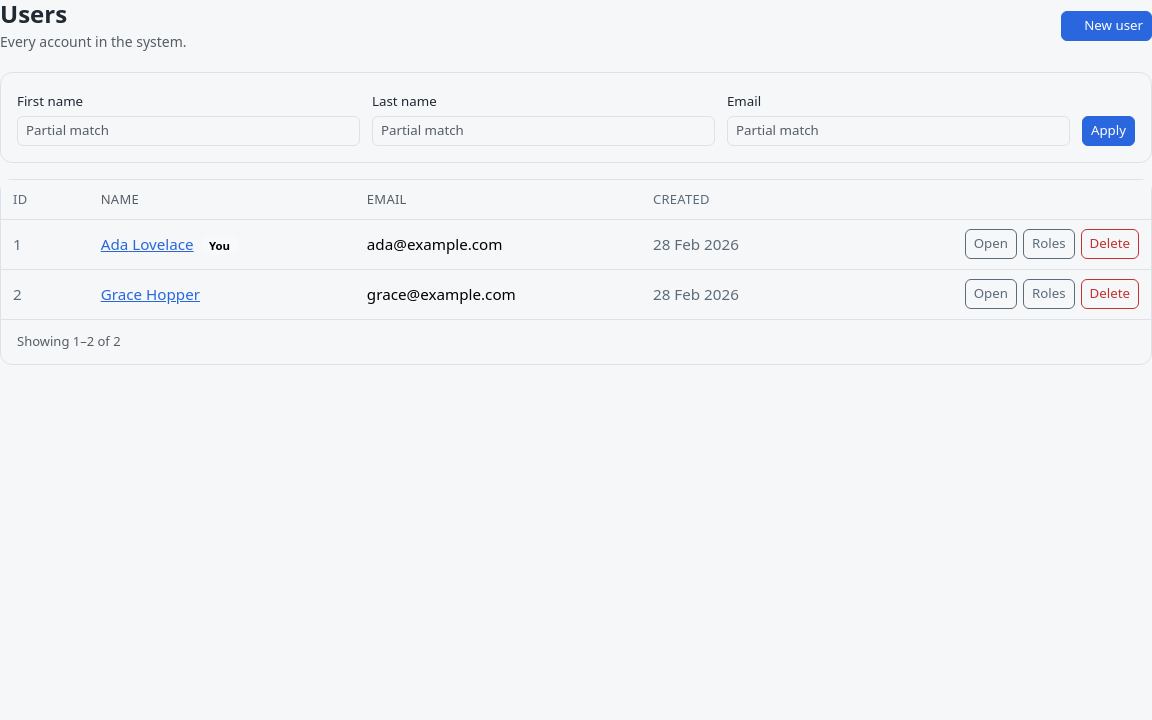
Test: When the API refuses an account change › keeps the account when the confirmation is dismissed
Click the button "Delete" in the row of "Hopper" at x=1110, y=294, box [1081,280,1139,309]
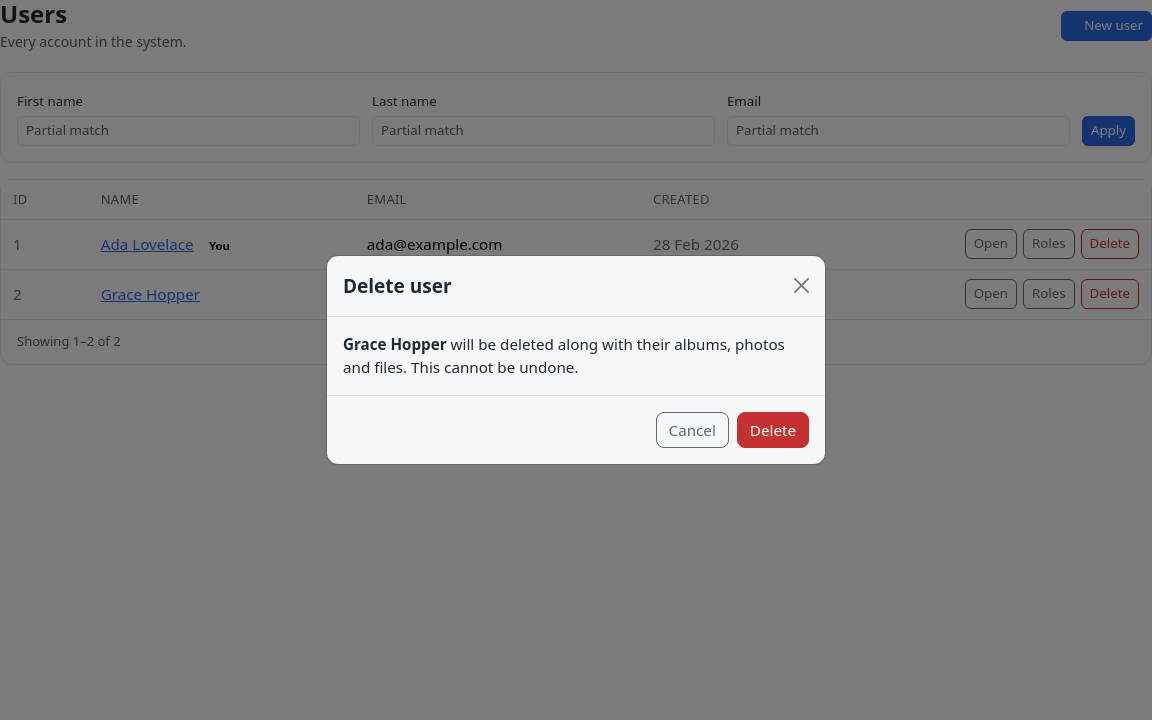
Click the button "Cancel" at x=692, y=430, box [656,412,729,448]
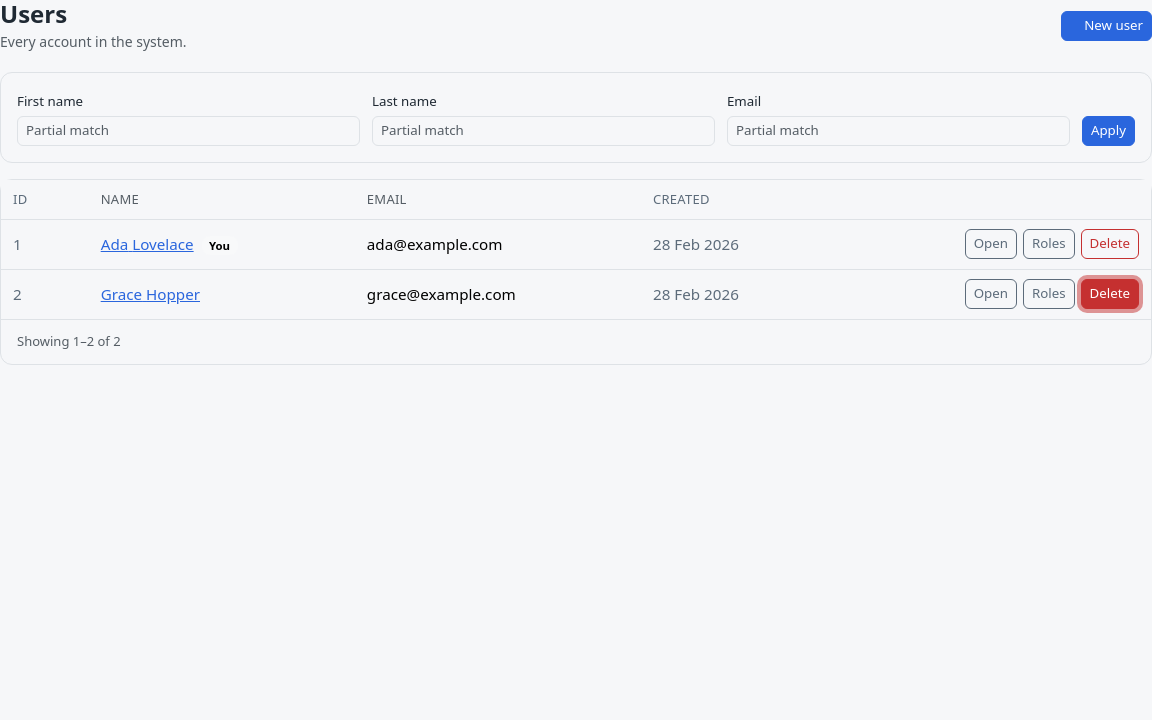
Now the dialog is gone
